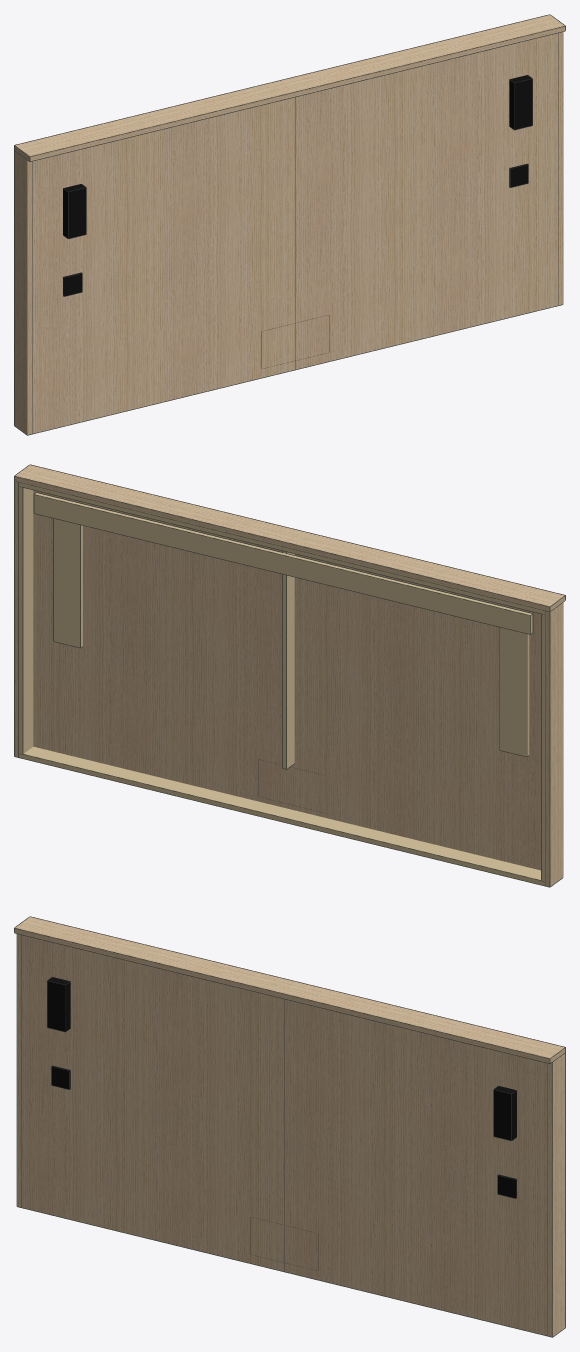
File: modell.glb
The picture shows the model from 3 angles, top to bottom: view 1: azimuth 30°, elevation 25°; view 2: azimuth 150°, elevation 25°; view 3: azimuth 330°, elevation 25°; orthographic projection.
Visible parts, largest first — view 1: 2025-284 Sengegavler gjesterom; view 2: 2025-284 Sengegavler gjesterom; view 3: 2025-284 Sengegavler gjesterom.
Boxes of the visible parts, box(x1,y1,x2,y2) form: 2025-284 Sengegavler gjesterom: box(14, 14, 565, 435); 2025-284 Sengegavler gjesterom: box(14, 464, 565, 887); 2025-284 Sengegavler gjesterom: box(14, 916, 565, 1337).
Bounding box in the file's own units: 2403 × 1203 × 143.
Materials: 4 (1 with a texture image).
